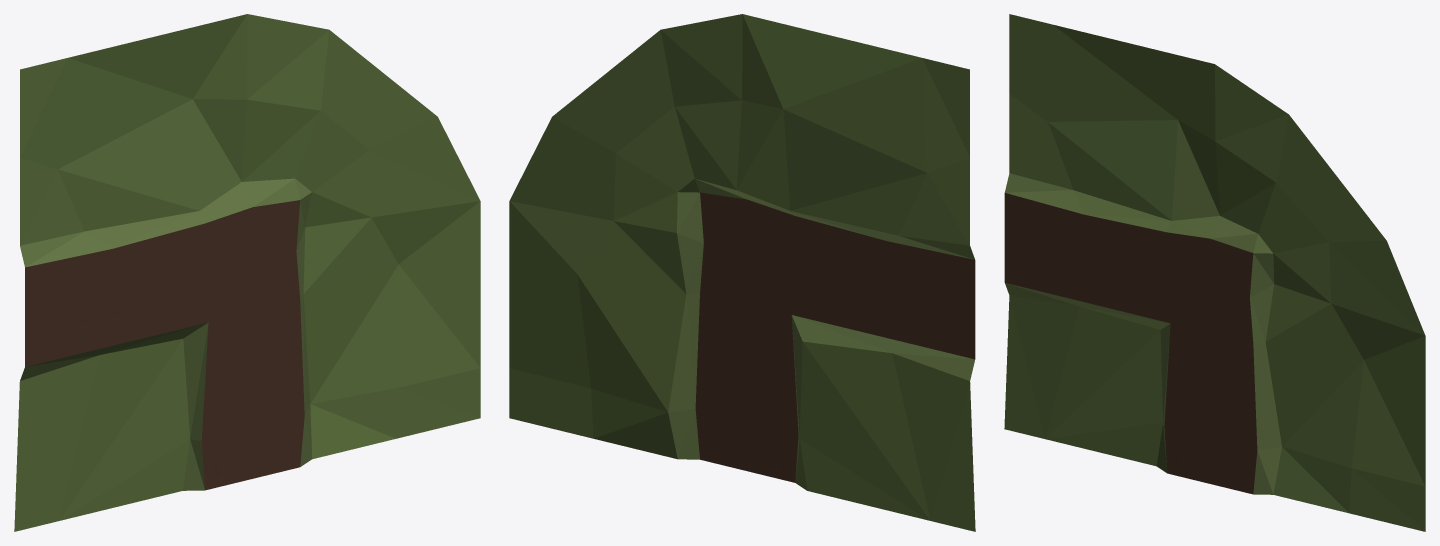
The model's file is RoadR.fbx.
3 views of the same model, side by side, from view 1: azimuth 30°, elevation 25°; view 2: azimuth 150°, elevation 25°; view 3: azimuth 330°, elevation 25° (orthographic). The views are drawn at different scales.
Visible parts, largest first — view 1: road3; view 2: road3; view 3: road3.
Boxes of the visible parts, bbox=[...] form: road3: bbox=[14, 14, 480, 531]; road3: bbox=[509, 14, 975, 531]; road3: bbox=[1004, 14, 1425, 531].
Size of the model in its own units: 3232 by 3055 by 144.
1 material, 1 textured.
